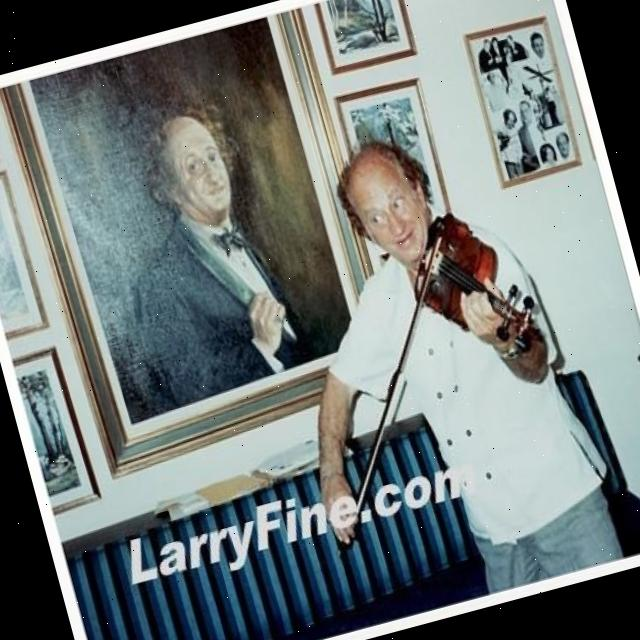violin: (393, 194, 552, 378)
